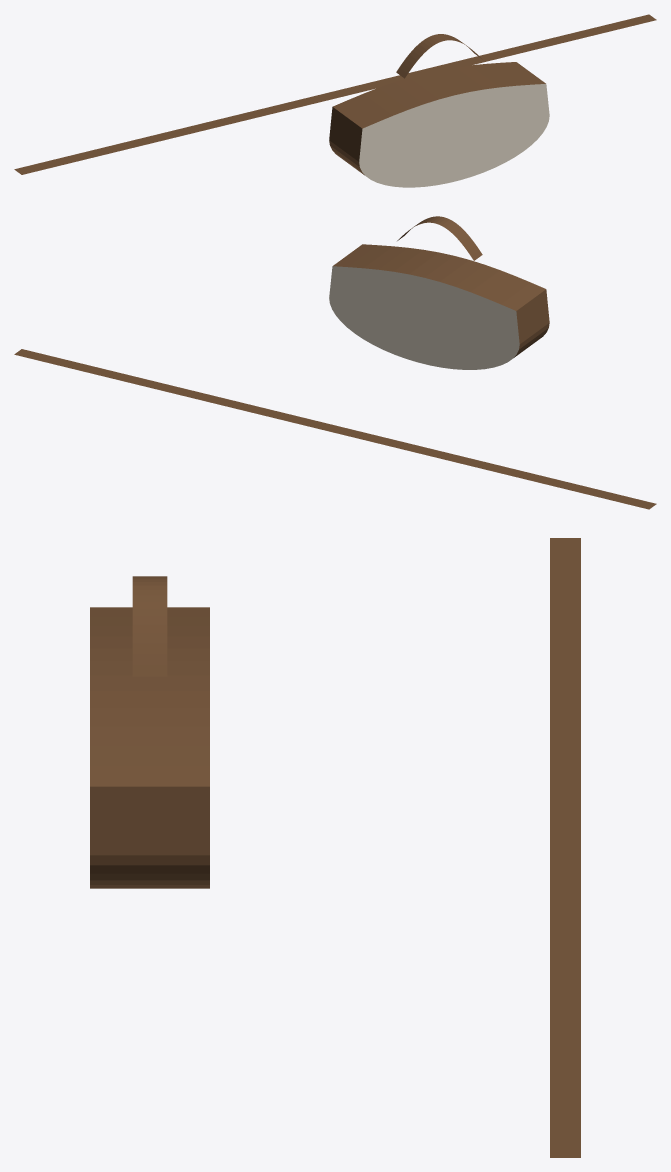
Rendered from eastern-market-saturday_prepped.glb.
3 renders of one model, top to bottom at view 1: azimuth 30°, elevation 25°; view 2: azimuth 150°, elevation 25°; view 3: azimuth 270°, elevation 25°, orthographic. The views are drawn at different scales.
Parts seen in each view (by area): view 1: CrescentBody, CrossbodyStrap, ShoulderStrap; view 2: CrescentBody, CrossbodyStrap, ShoulderStrap; view 3: CrescentBody, CrossbodyStrap, ShoulderStrap.
Part boxes in pixels (<box>): CrescentBody: <box>329,62,549,187</box>; CrossbodyStrap: <box>14,14,656,174</box>; ShoulderStrap: <box>396,34,482,78</box>; CrescentBody: <box>329,244,549,369</box>; CrossbodyStrap: <box>14,349,656,509</box>; ShoulderStrap: <box>397,216,482,260</box>; CrescentBody: <box>90,607,209,888</box>; CrossbodyStrap: <box>550,538,580,1157</box>; ShoulderStrap: <box>132,576,167,676</box>.
Size of the model in its own units: 1.1 by 0.22 by 0.3684.
